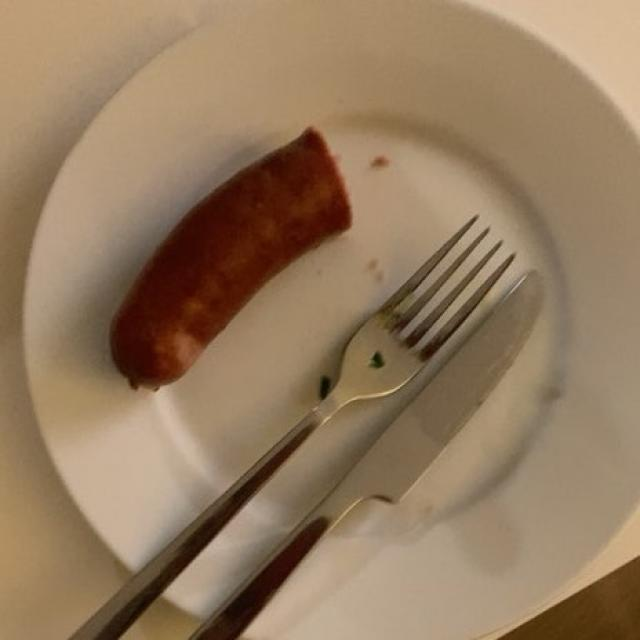sausage: (111, 127, 359, 380)
